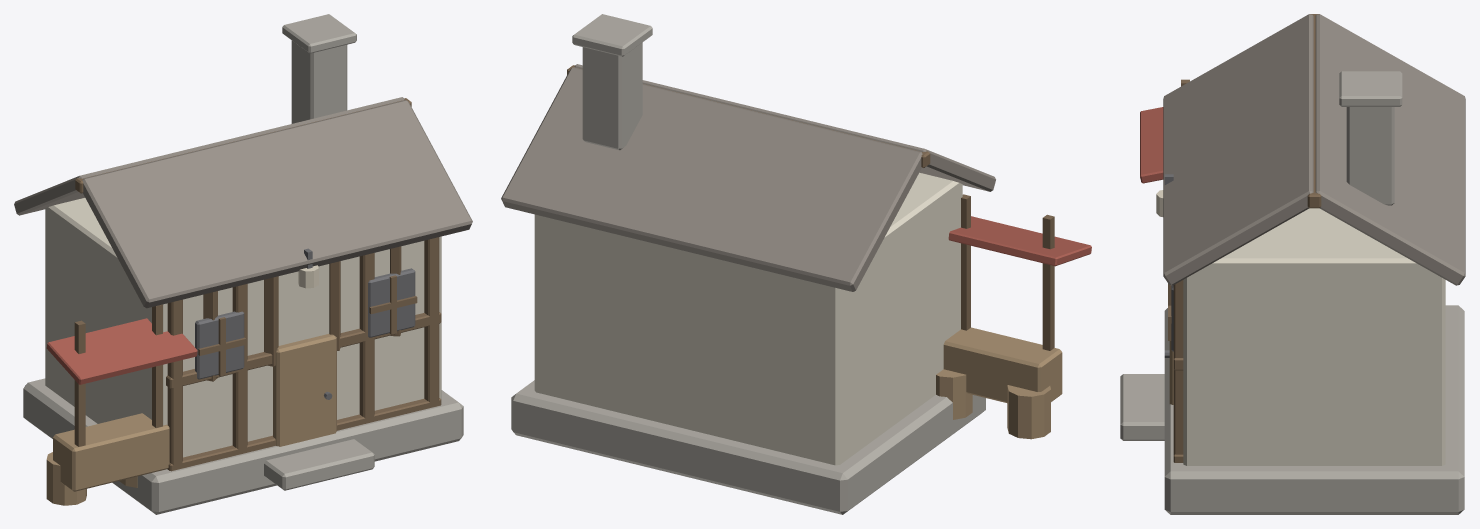
The model's file is village_hall.glb.
3 renders of one model, left to right at view 1: azimuth 30°, elevation 25°; view 2: azimuth 150°, elevation 25°; view 3: azimuth 270°, elevation 25°, orthographic. The views are drawn at different scales.
Parts seen in each view (by area): view 1: Roof left, Plaster hall, Stone foundation, Market counter, Oak door, Awning cloth, Chimney, Front step, Roof right, Frame post.003, Window dark, Window dark.001 (+11 smaller); view 2: Plaster hall, Roof right, Stone foundation, Market counter, Chimney, Awning cloth, Roof left, Chimney cap, Market barrel, Awning pole, Market barrel.001, Awning pole.001; view 3: Plaster hall, Roof left, Roof right, Stone foundation, Chimney, Front step, Chimney cap, Frame post.003, Awning cloth, Roof ridge.
Boxes of the visible parts, x1,y1,x2,y2 form: Roof left: [82, 100, 472, 308]; Plaster hall: [45, 198, 441, 457]; Stone foundation: [23, 378, 463, 514]; Market counter: [53, 413, 169, 491]; Oak door: [273, 334, 336, 446]; Awning cloth: [46, 318, 197, 384]; Chimney: [291, 40, 347, 123]; Front step: [264, 439, 374, 490]; Roof right: [14, 97, 404, 215]; Frame post.003: [424, 237, 439, 407]; Window dark: [195, 311, 244, 379]; Window dark.001: [368, 268, 415, 337]; Plaster hall: [534, 172, 962, 465]; Roof right: [501, 67, 922, 291]; Stone foundation: [511, 380, 985, 514]; Market counter: [943, 327, 1062, 402]; Chimney: [582, 42, 642, 150]; Awning cloth: [948, 216, 1091, 266]; Roof left: [574, 64, 995, 191]; Chimney cap: [572, 14, 652, 56]; Market barrel: [1007, 385, 1050, 439]; Awning pole: [1042, 214, 1054, 350]; Market barrel.001: [936, 369, 972, 419]; Awning pole.001: [961, 194, 970, 330]; Plaster hall: [1183, 208, 1445, 465]; Roof left: [1163, 14, 1313, 285]; Roof right: [1315, 14, 1465, 285]; Stone foundation: [1164, 305, 1464, 514]; Chimney: [1346, 107, 1394, 205]; Front step: [1120, 374, 1164, 440]; Chimney cap: [1339, 71, 1402, 106]; Frame post.003: [1173, 280, 1183, 454]; Awning cloth: [1140, 107, 1163, 183]; Roof ridge: [1307, 14, 1321, 208].
Bounding box in the file's own units: 7.05 × 5.94 × 4.61.
